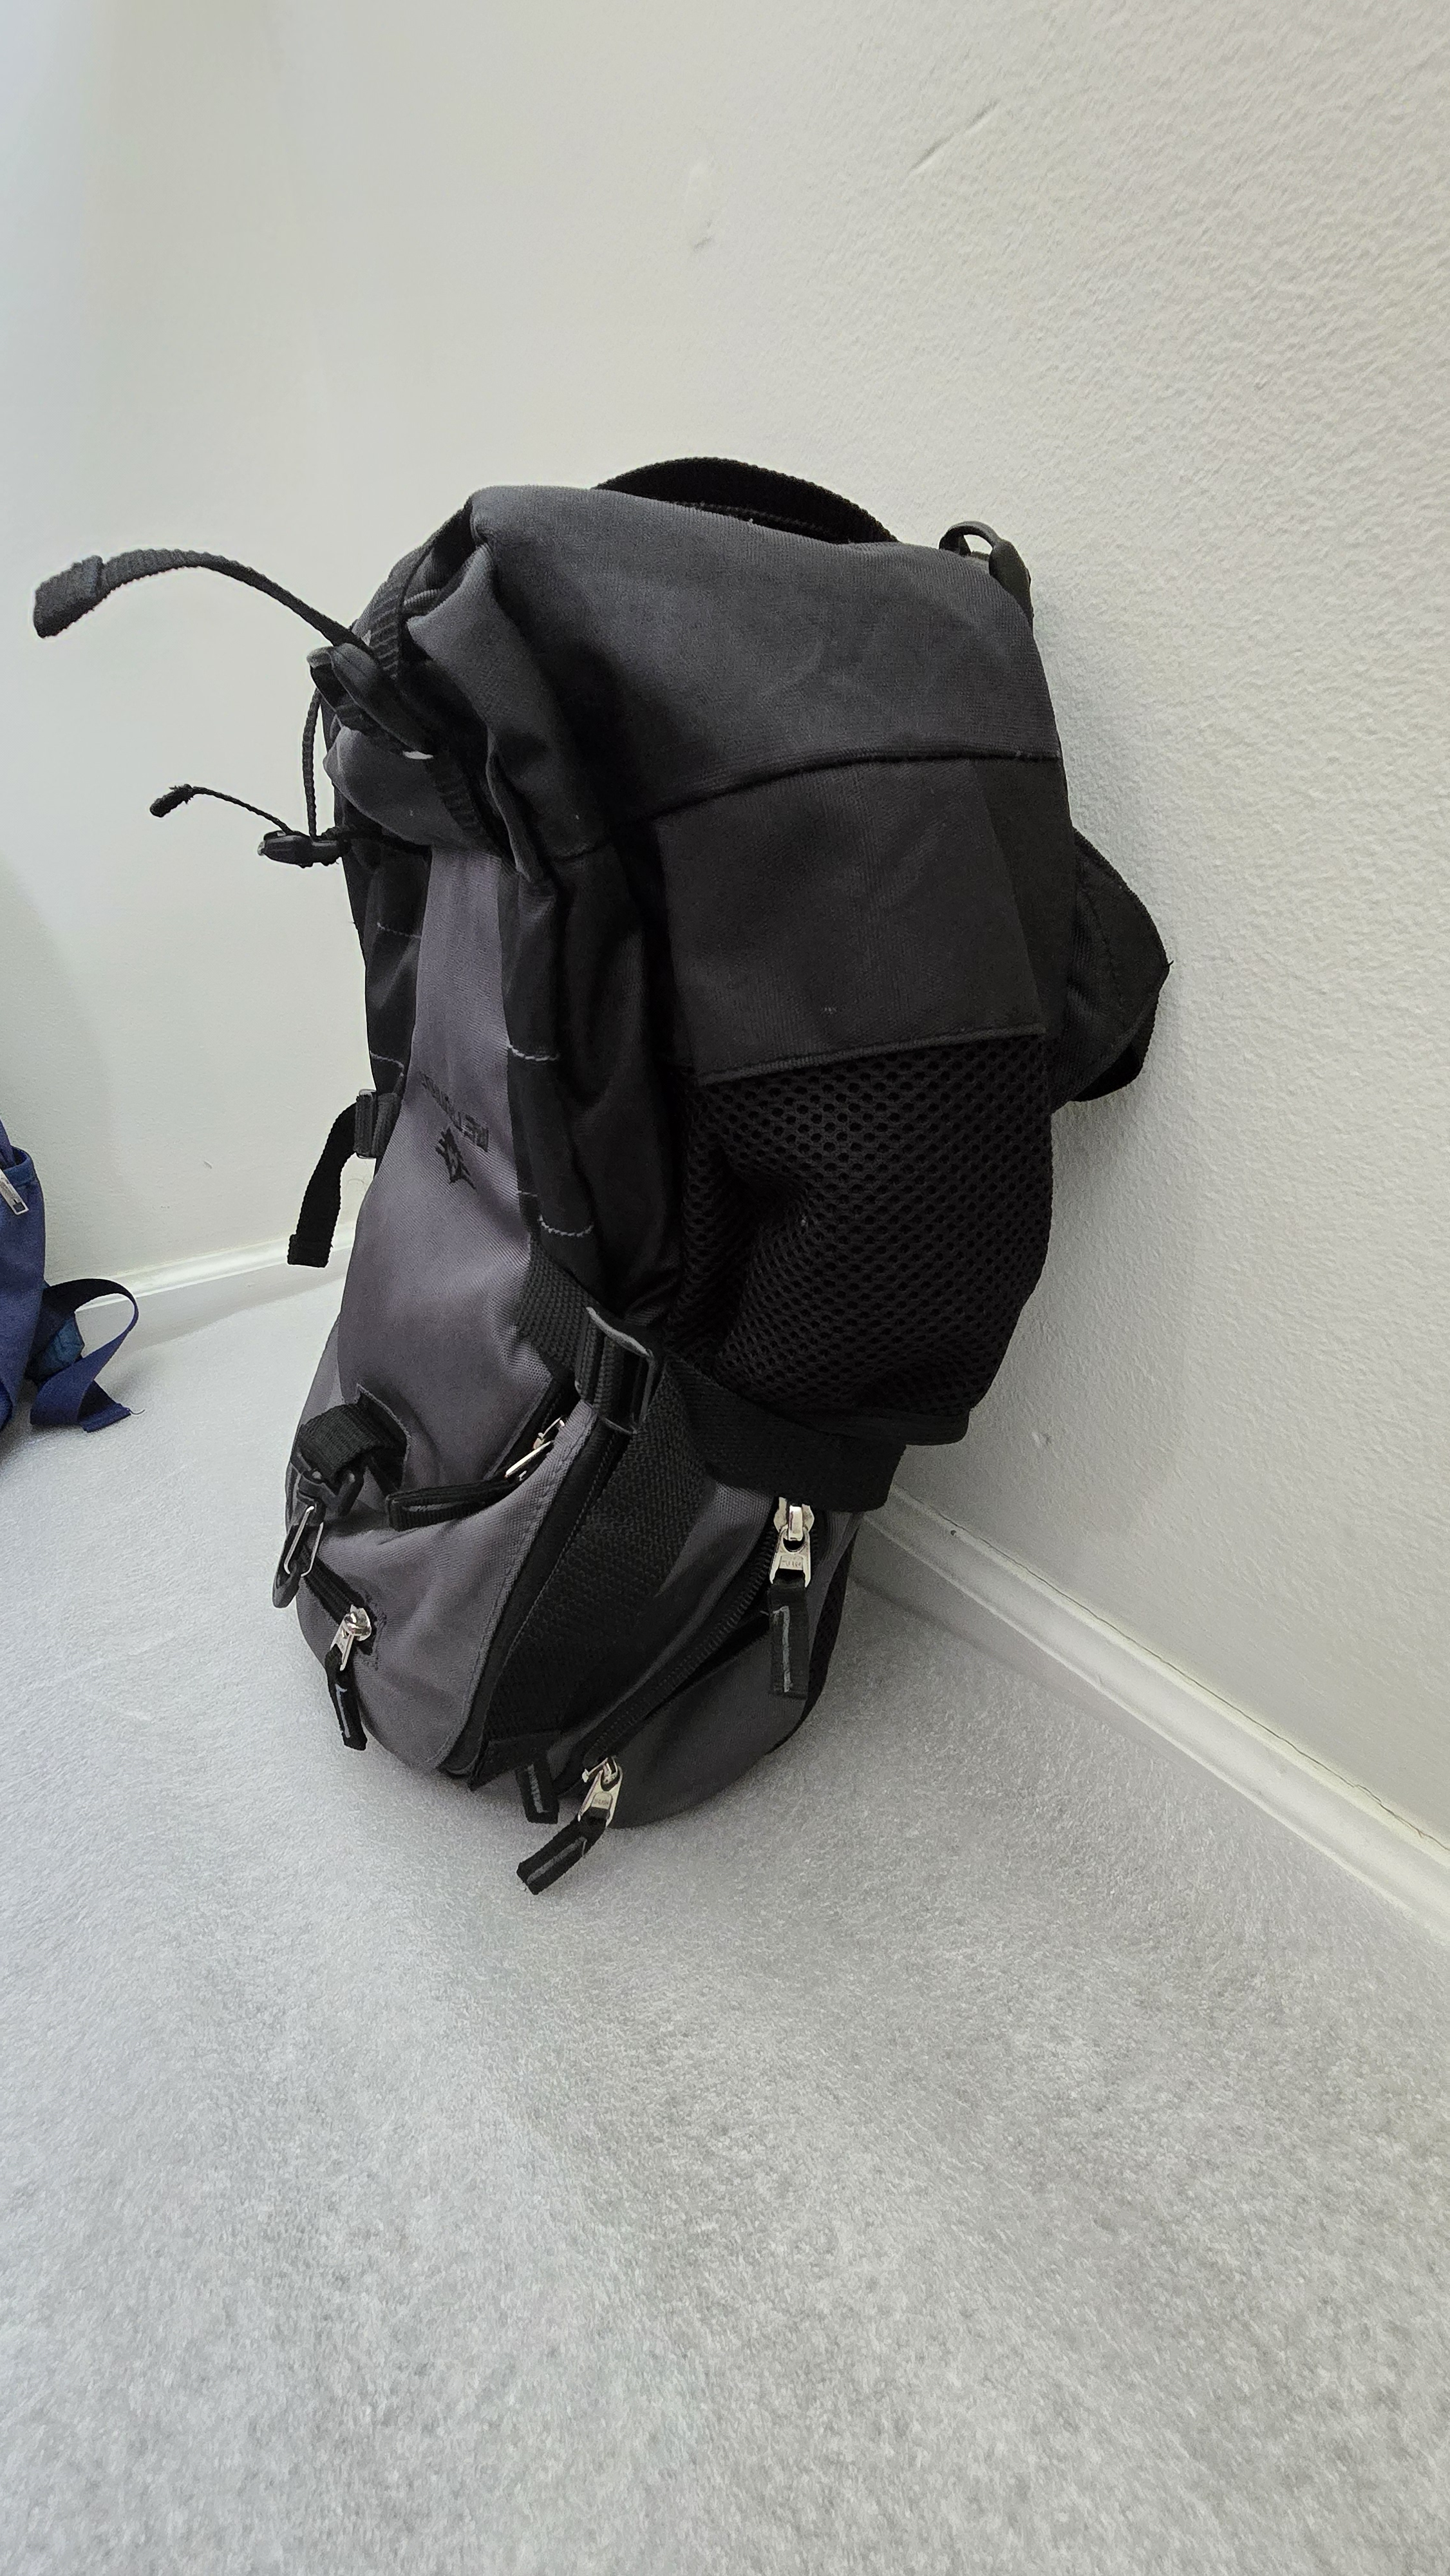bag: (0, 306, 1213, 1835)
